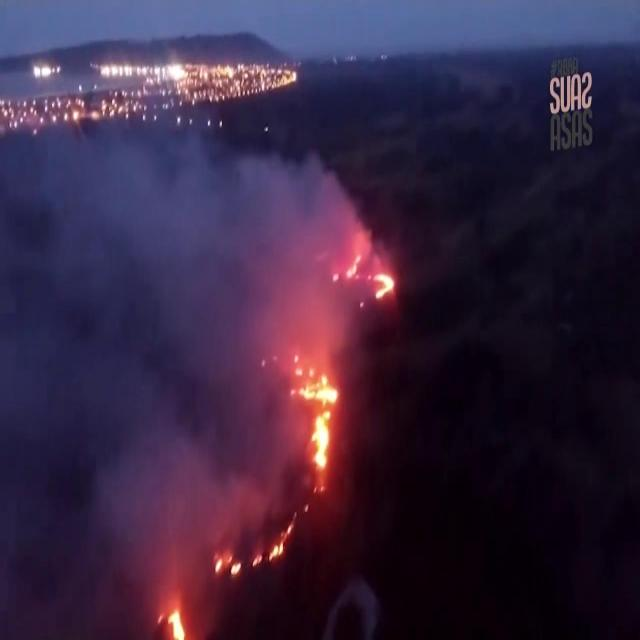Fire: (212, 522, 294, 575), (312, 409, 330, 471), (293, 380, 341, 402), (371, 272, 395, 298), (167, 612, 187, 640), (346, 250, 362, 276)
